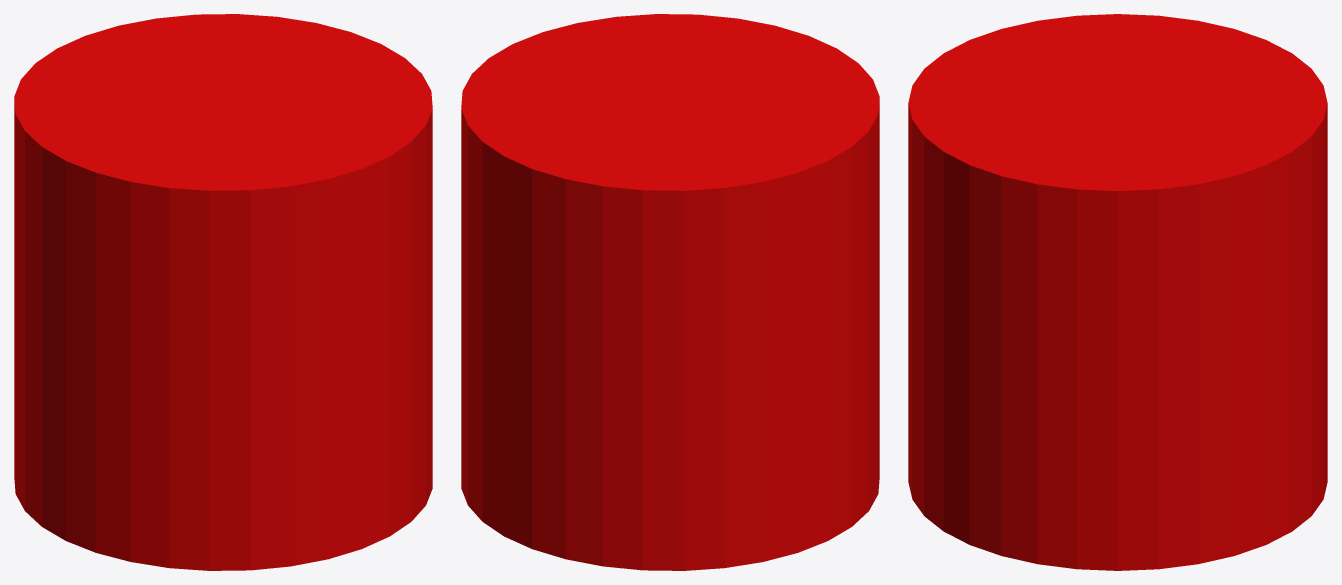
Rendered from target-vtol-2023.dae.
The picture shows the model from 3 angles, left to right: view 1: azimuth 30°, elevation 25°; view 2: azimuth 150°, elevation 25°; view 3: azimuth 270°, elevation 25°; orthographic projection.
Parts seen in each view (by area): view 1: Cube, Cube.001; view 2: Cube, Cube.001; view 3: Cube, Cube.001.
Boxes of the visible parts, bbox=[...] form: Cube: bbox=[14, 14, 432, 570]; Cube.001: bbox=[28, 20, 418, 184]; Cube: bbox=[461, 14, 879, 570]; Cube.001: bbox=[475, 20, 865, 184]; Cube: bbox=[908, 14, 1327, 570]; Cube.001: bbox=[922, 20, 1313, 185].
Size of the model in its own units: 0.3 by 0.3 by 0.3.
